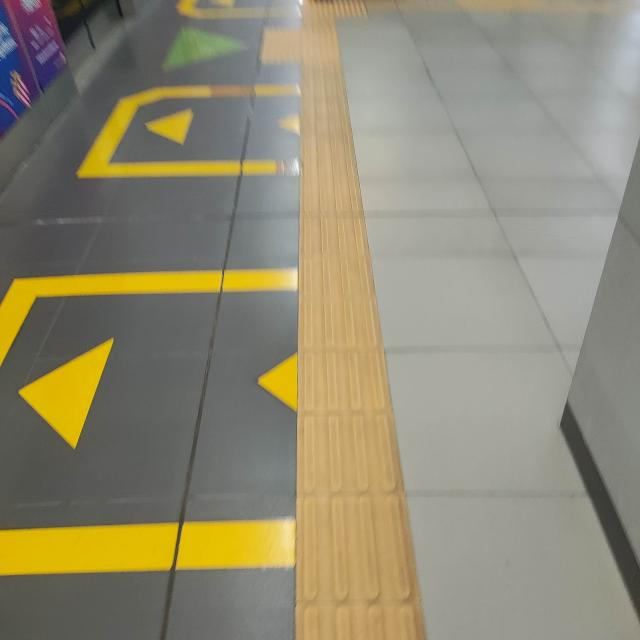lurus: (290, 35, 419, 640)
